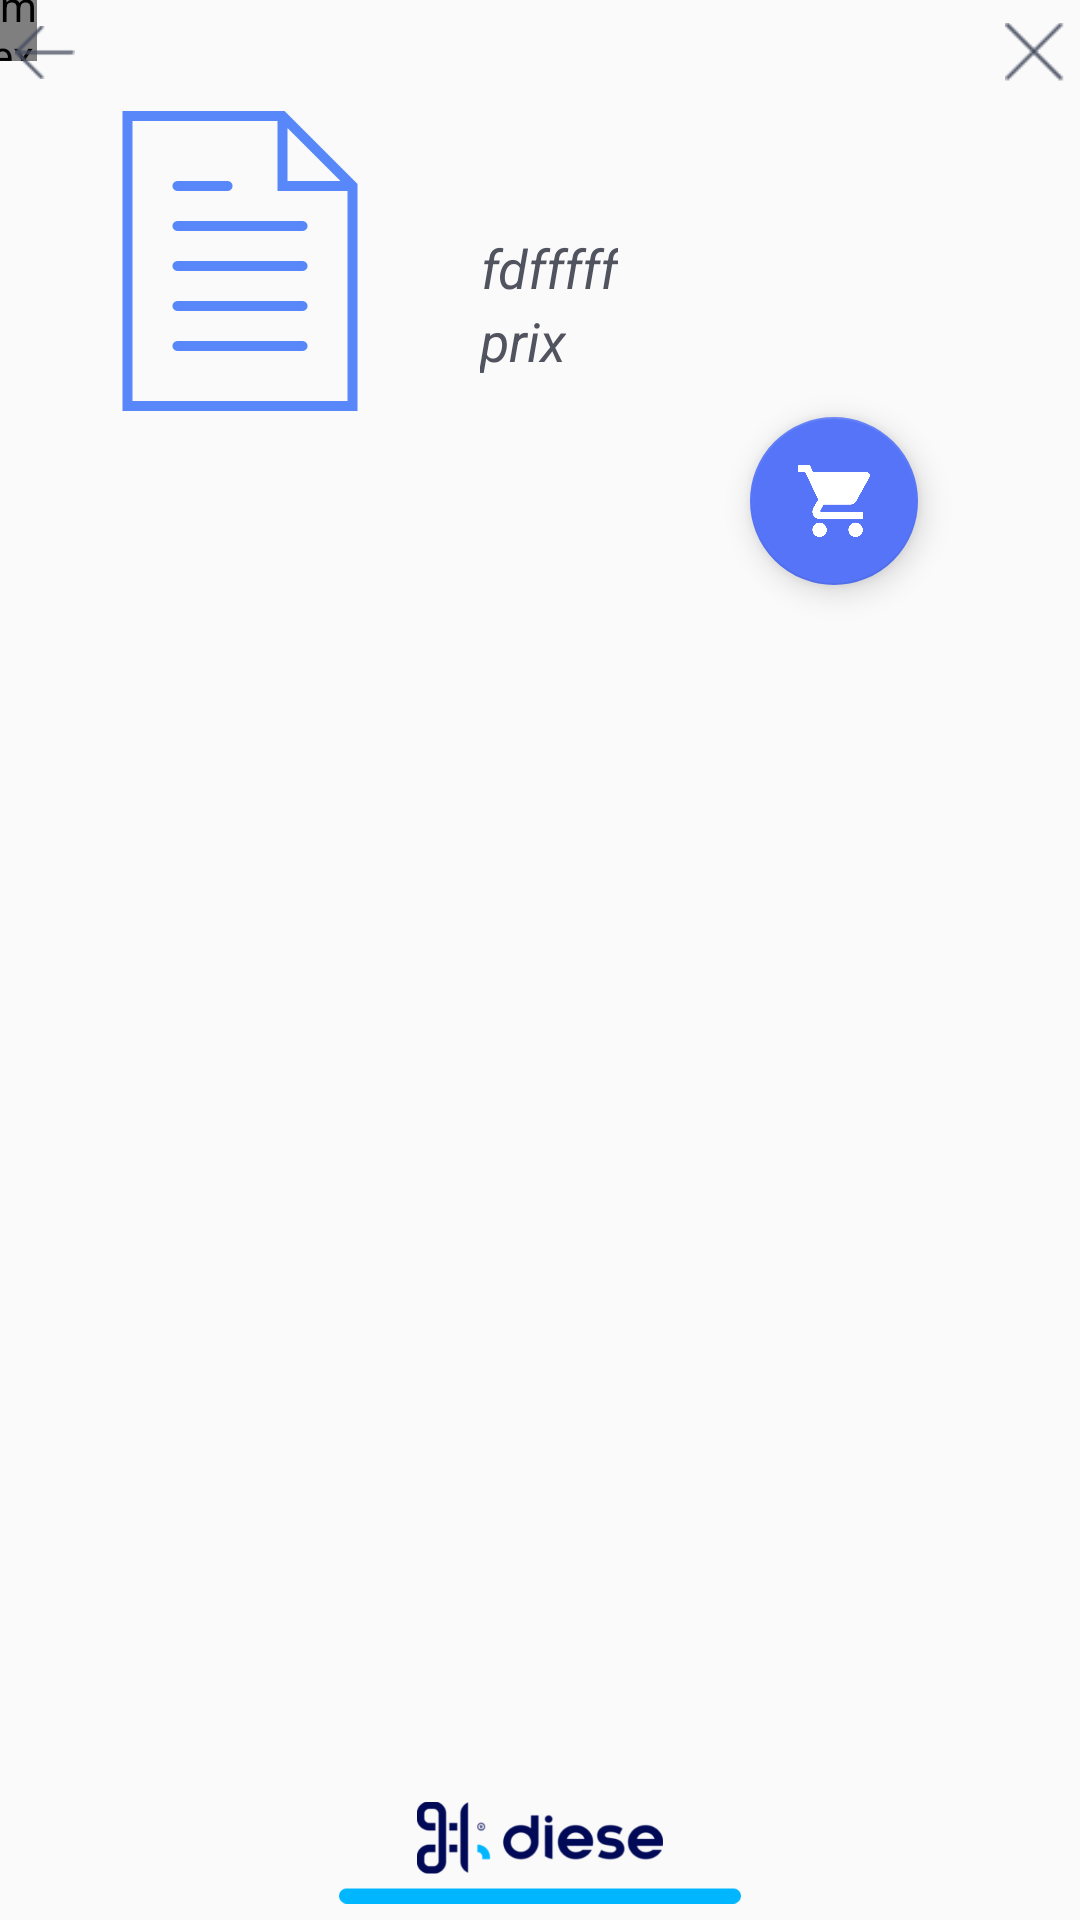

Icon click points for this 1080*1920 phone screenshot, format (x=x, y=y):
closeicon: (x=1034, y=52)
file: (x=240, y=261)
shopping: (x=834, y=501)
